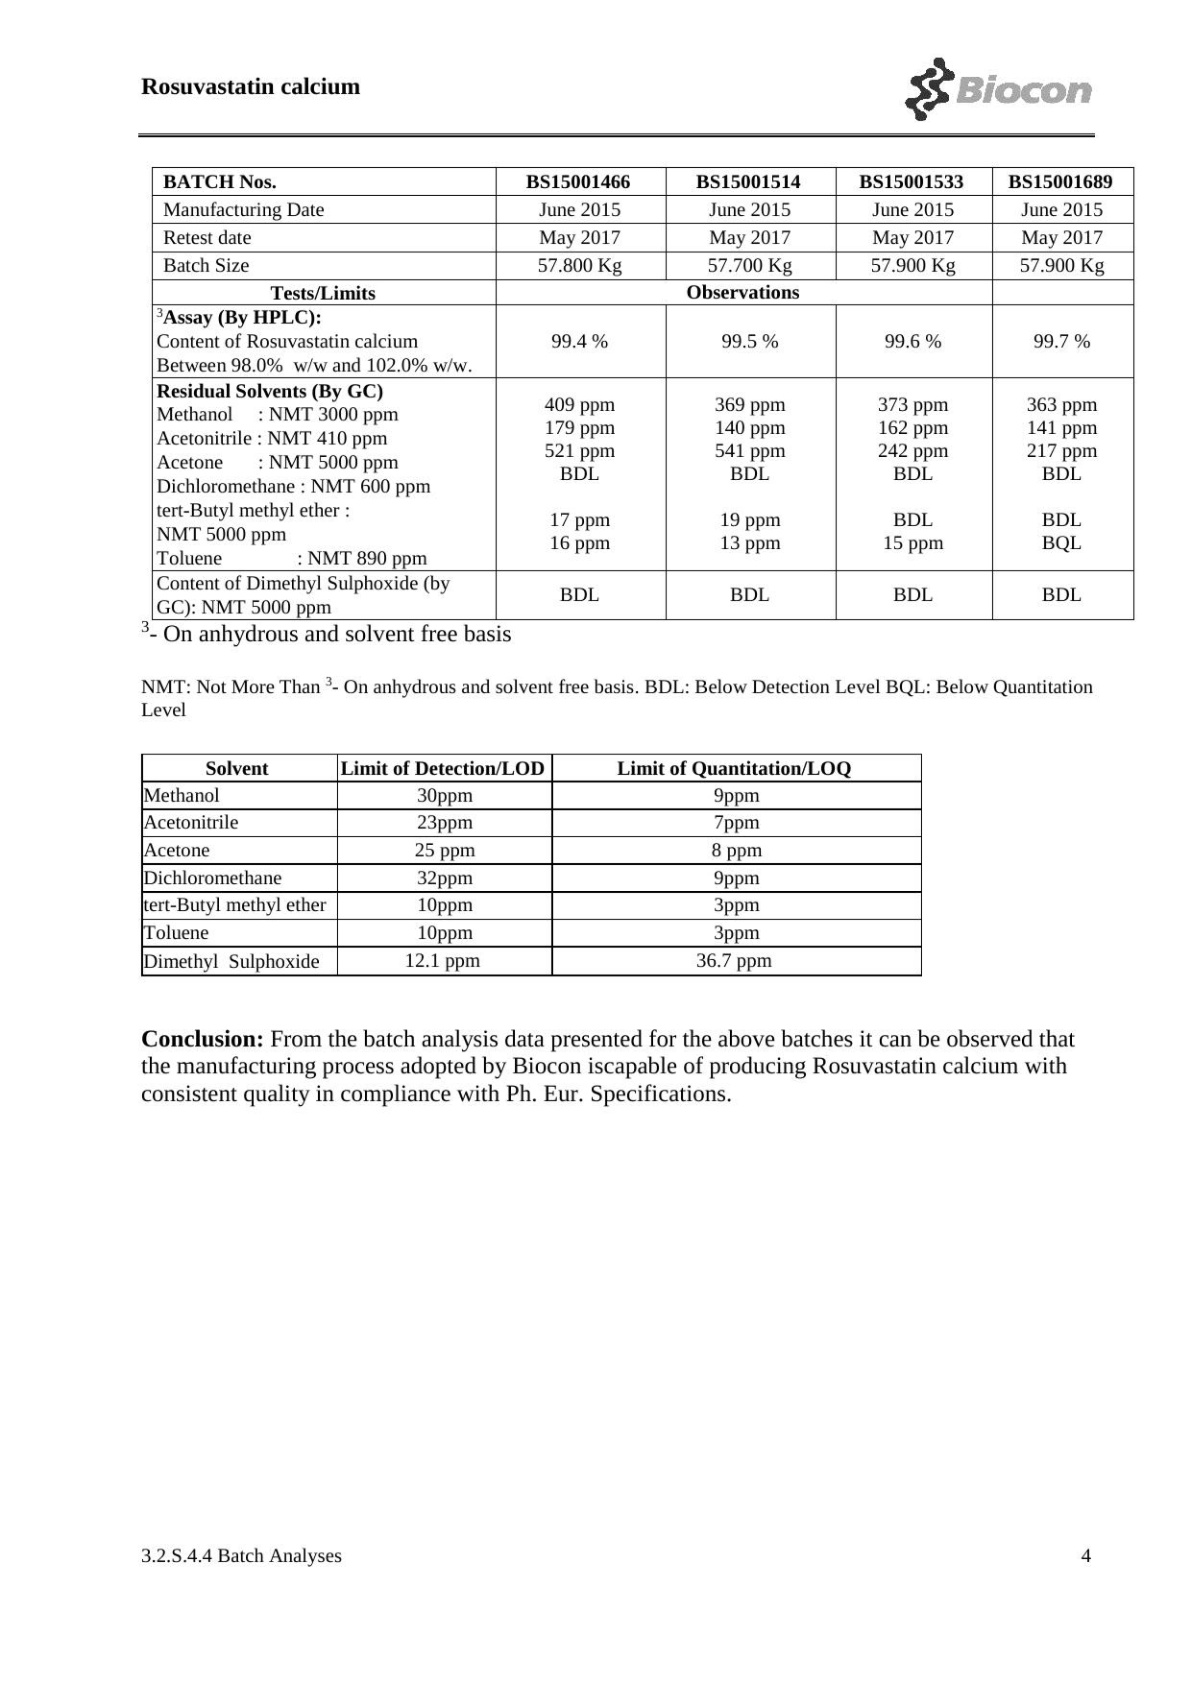full_lined: (141, 753, 922, 977)
partial_lined_merged_cells: (151, 168, 1137, 622)
